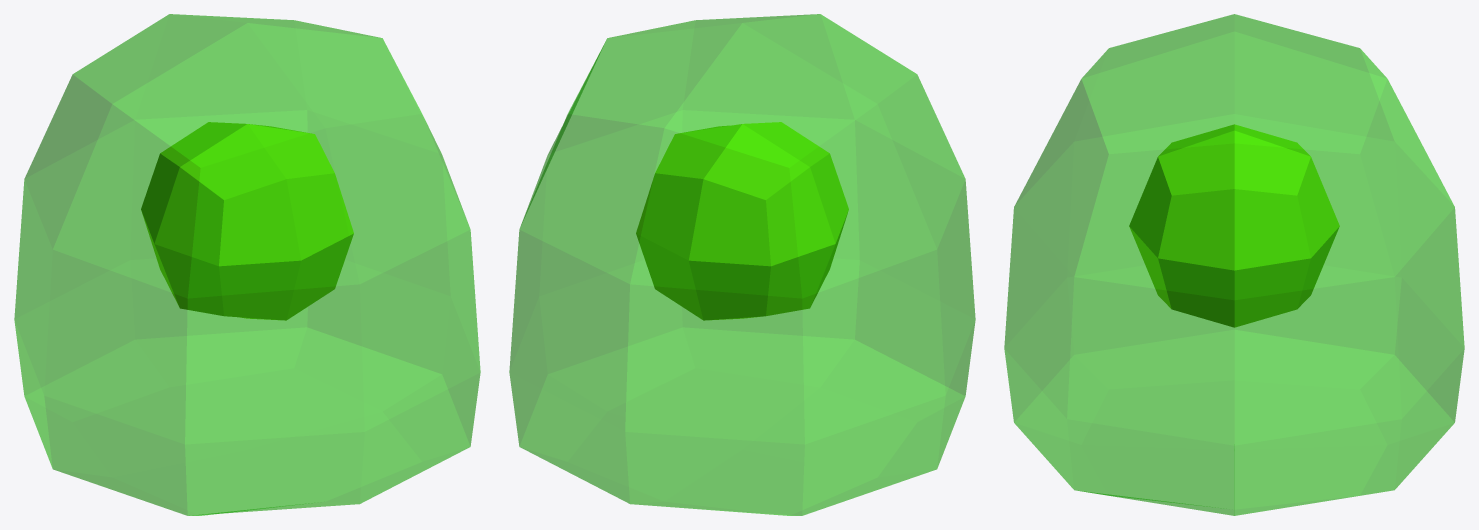
Rendered from Transparent slime.fbx.
The picture shows the model from 3 angles, left to right: view 1: azimuth 30°, elevation 25°; view 2: azimuth 150°, elevation 25°; view 3: azimuth 270°, elevation 25°; orthographic projection.
Parts seen in each view (by area): view 1: Cube.001, Cube; view 2: Cube.001, Cube; view 3: Cube.001, Cube.
Part boxes in pixels (x1,y1,x2,y2): Cube.001: (14, 14, 480, 515); Cube: (141, 122, 353, 320); Cube.001: (509, 14, 975, 515); Cube: (636, 122, 848, 320); Cube.001: (1004, 14, 1464, 515); Cube: (1129, 124, 1339, 327).
Size of the model in its own units: 91.67 by 91.98 by 91.67.
